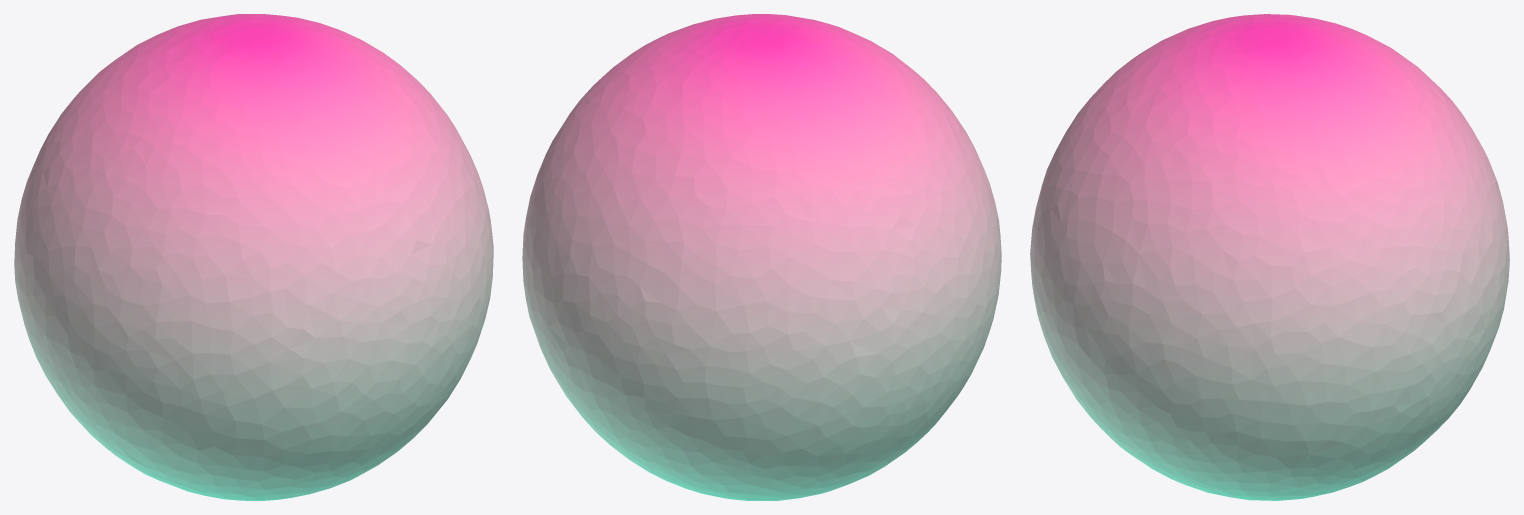
File: 107_cyb_laser_gradient_fish_scales_2968_2026_10_03_7ab25c.glb
The picture shows the model from 3 angles, left to right: view 1: azimuth 30°, elevation 25°; view 2: azimuth 150°, elevation 25°; view 3: azimuth 270°, elevation 25°; orthographic projection.
Visible parts, largest first — view 1: geometry_0; view 2: geometry_0; view 3: geometry_0.
Part boxes in pixels (left/top/right/bottom): geometry_0: left=14, top=14, right=493, bottom=500; geometry_0: left=522, top=14, right=1001, bottom=500; geometry_0: left=1030, top=14, right=1509, bottom=500.
Bounding box in the file's own units: 0.9886 × 1 × 0.9894.
